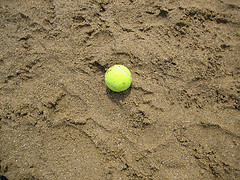tennis ball: (103, 63, 134, 94)
